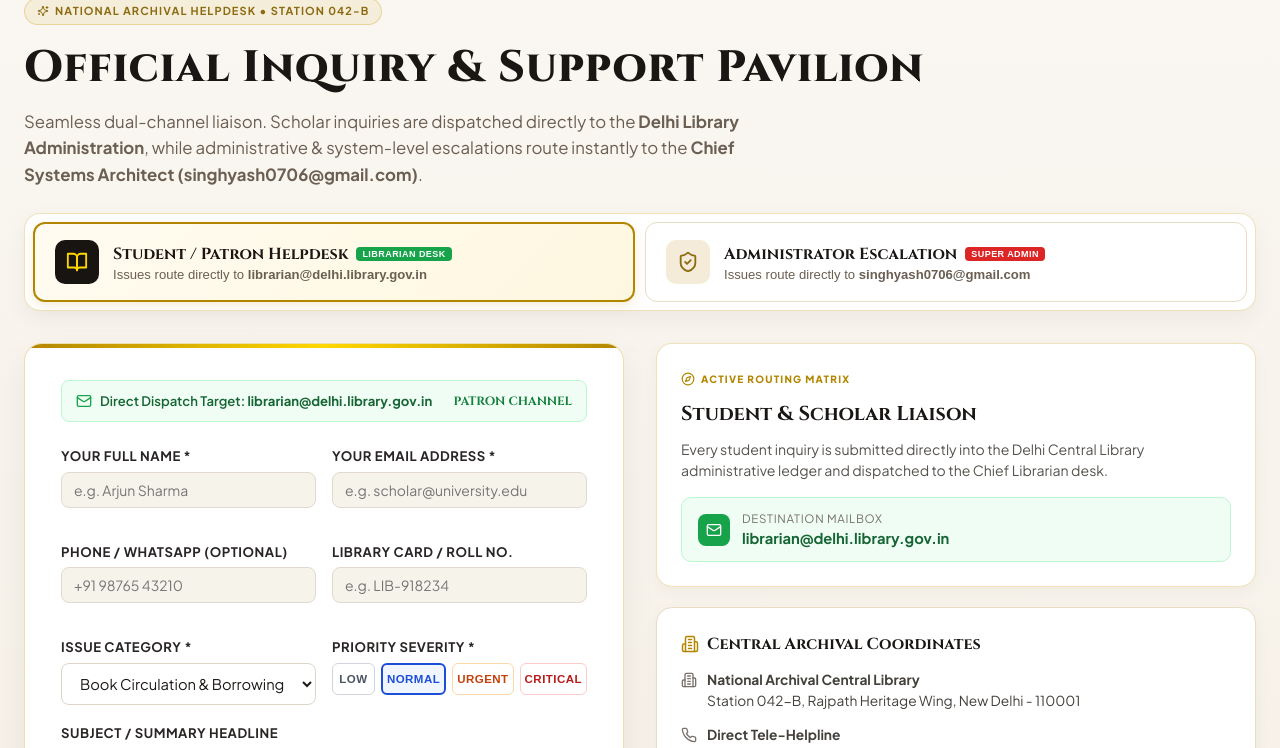
Test: Contact & Archival Role-Based Routing › switches routing to super admin email when administrator option is selected
The image size is (1280, 748).
Click the button "Administrator Escalation" at [946, 262], box x1=645 y1=222 x2=1247 y2=302
(page scrolled)
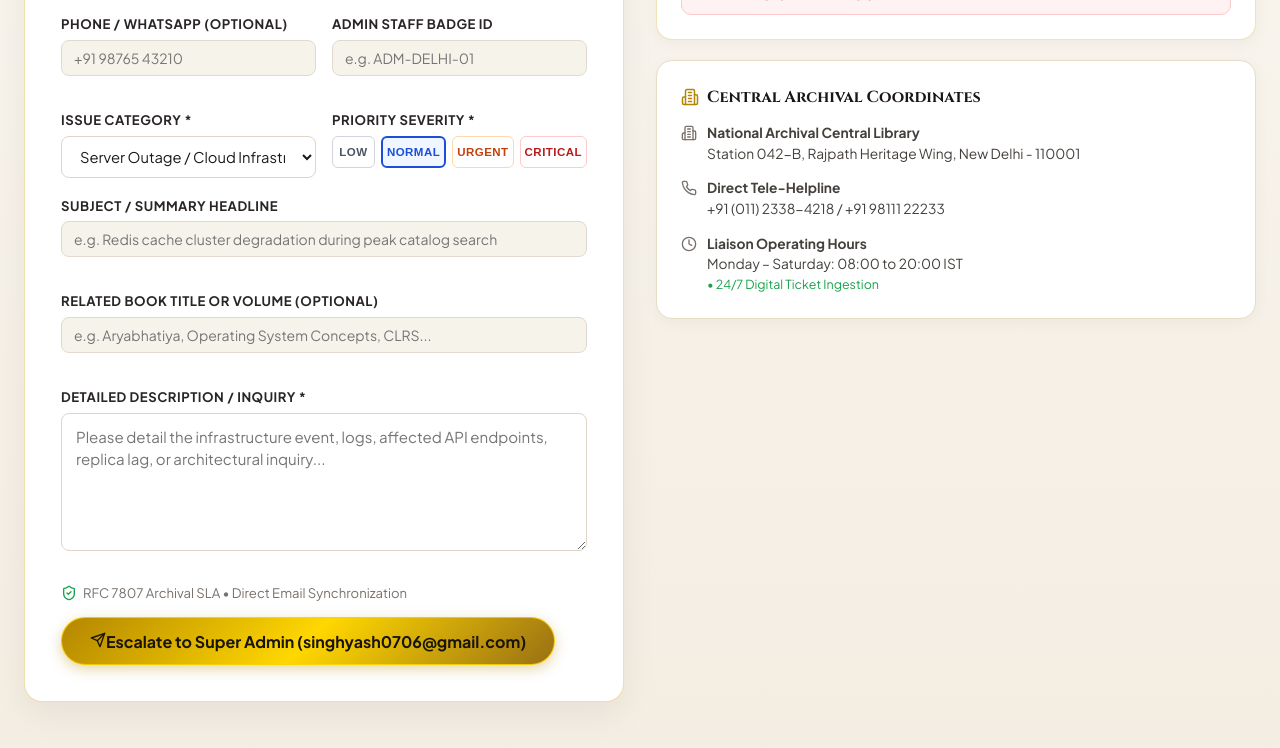
expect the button "Escalate to Super Admin (singhyash0706@gmail.com)" is shown: met, box x1=61 y1=617 x2=555 y2=665
